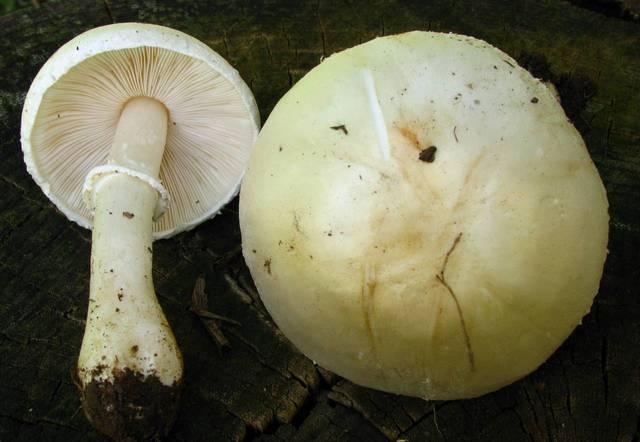poisonous_mushroom: (237, 28, 611, 402), (18, 20, 261, 439)
